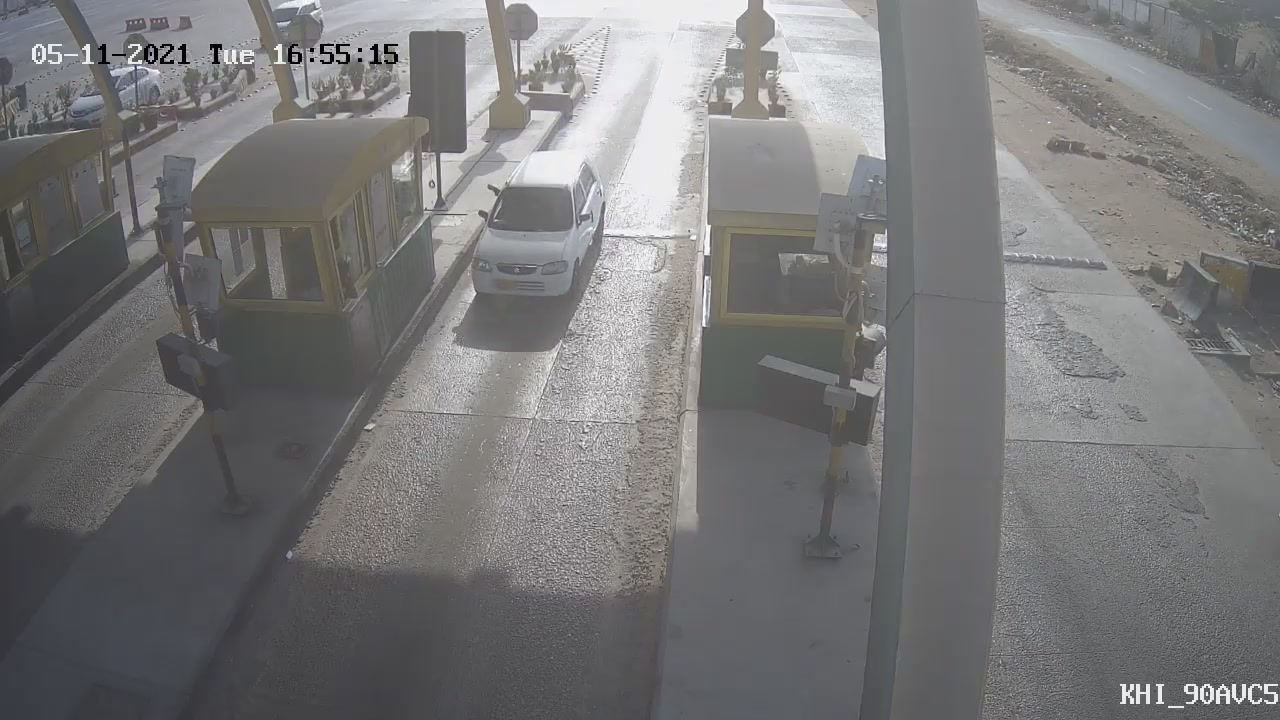F1: (446, 136, 631, 326)
